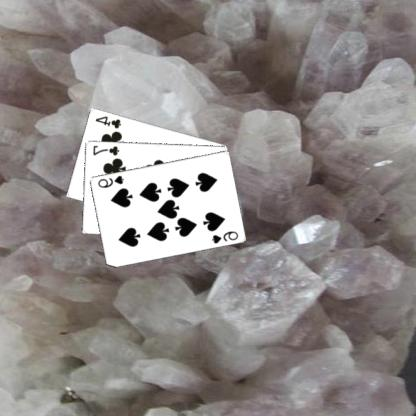4C: (95, 113, 124, 130)
7C: (92, 142, 122, 156)
9S: (210, 228, 242, 245), (97, 173, 127, 189)
